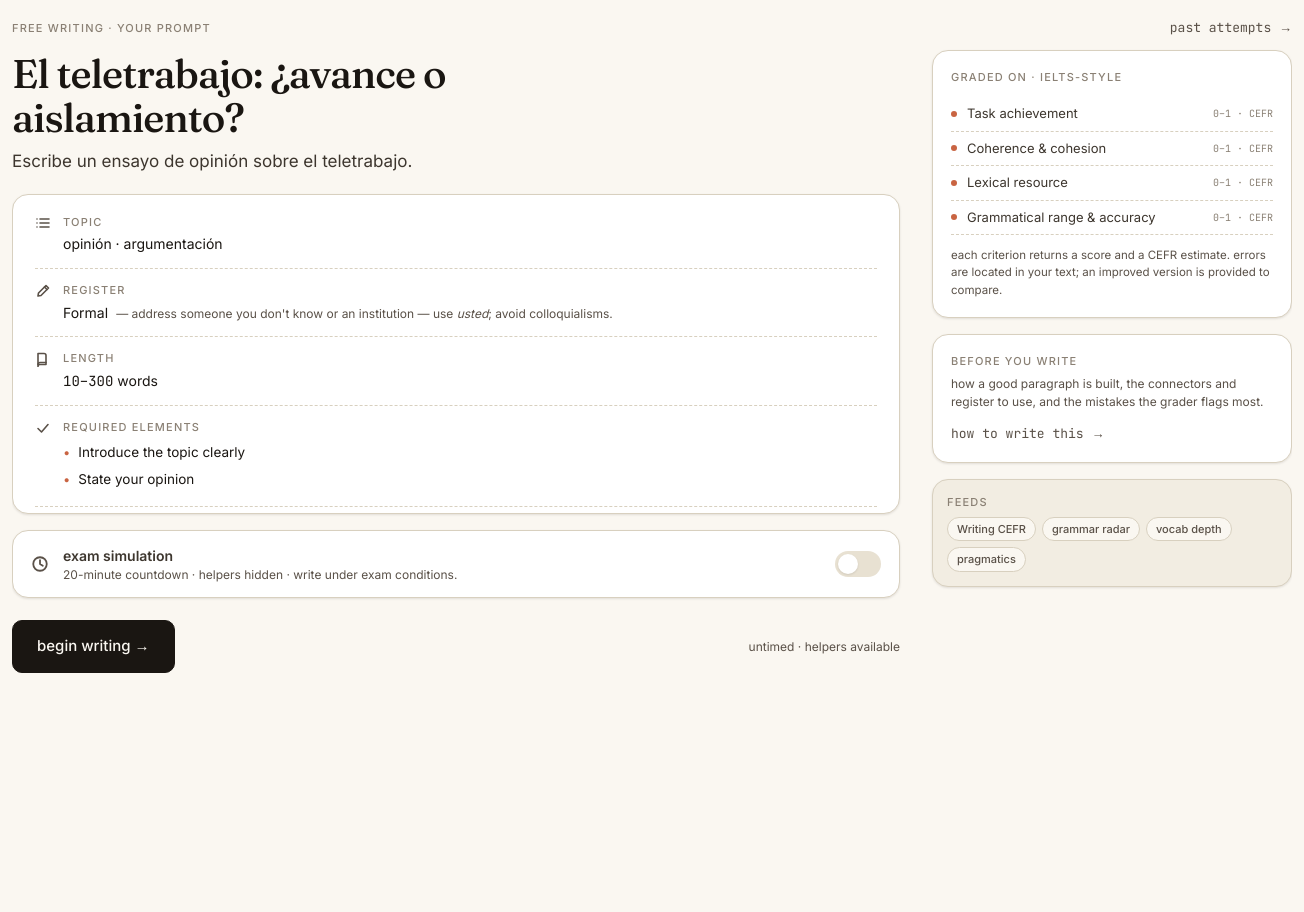
Scenario: FreeWritingPage › step 3: composer → results after grading › typing enough words and clicking grade → results headline shown after mutation resolves
// Go to composer
Click the button "begin writing →". click: (93, 646)
box: left=12, top=620, right=174, bottom=673
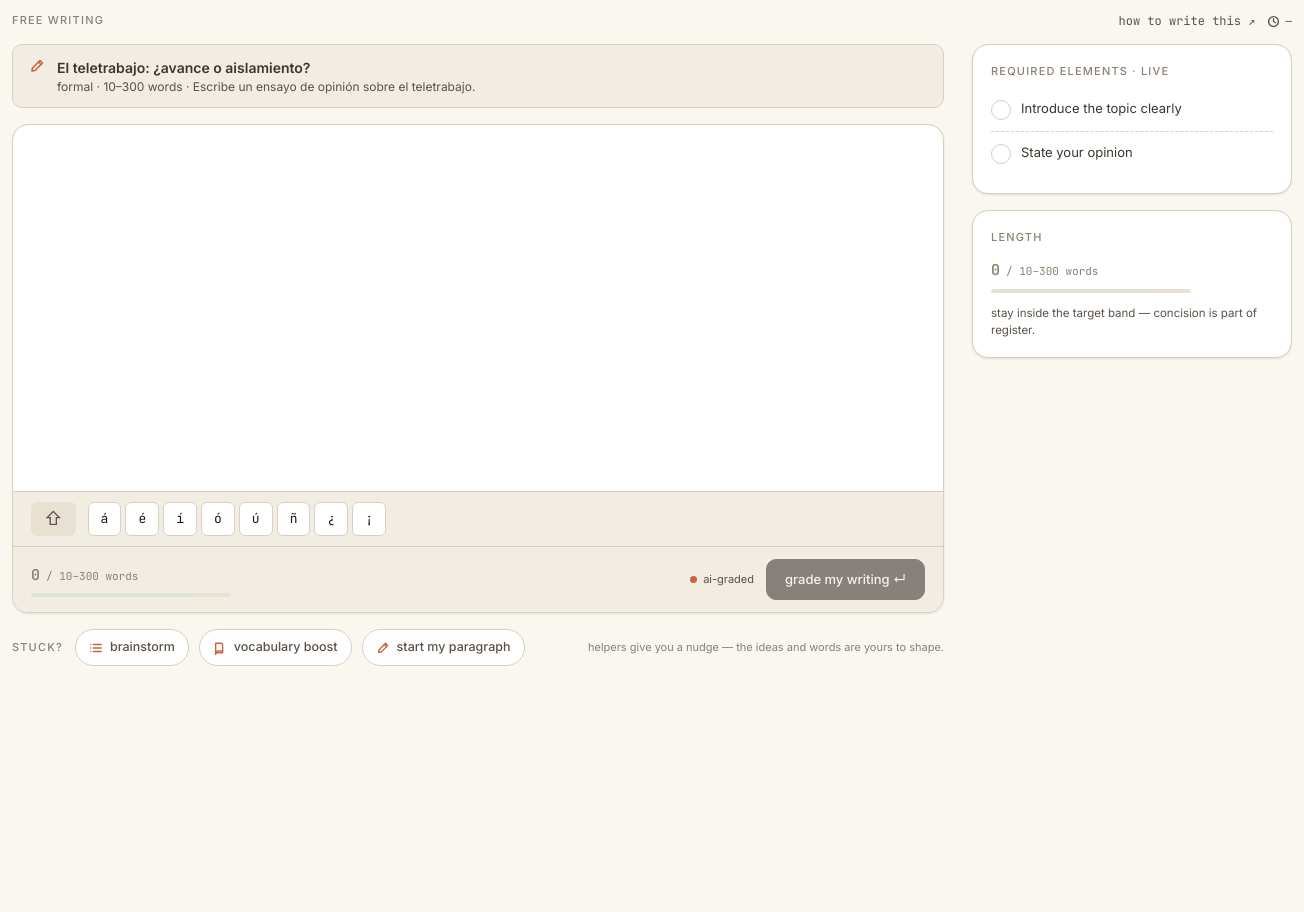
Type "El teletrabajo tiene ventajas claras para los trabajadores modernos que buscan flexibilidad laboral." into the text box. click: (478, 305)
box: left=13, top=125, right=943, bottom=485
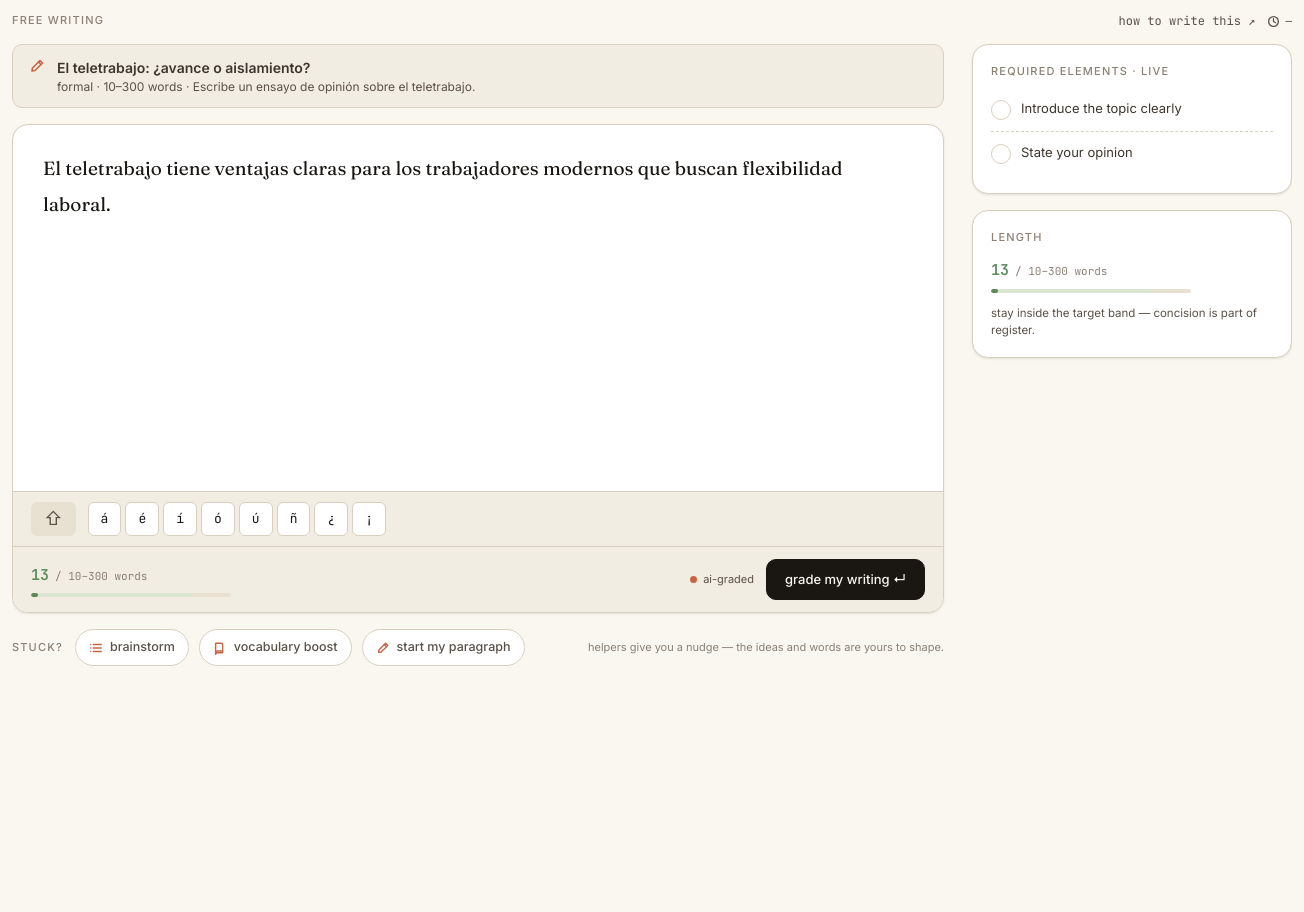
// Click grade
Click the button "grade my writing ↵". click: (846, 580)
box: left=766, top=559, right=925, bottom=600
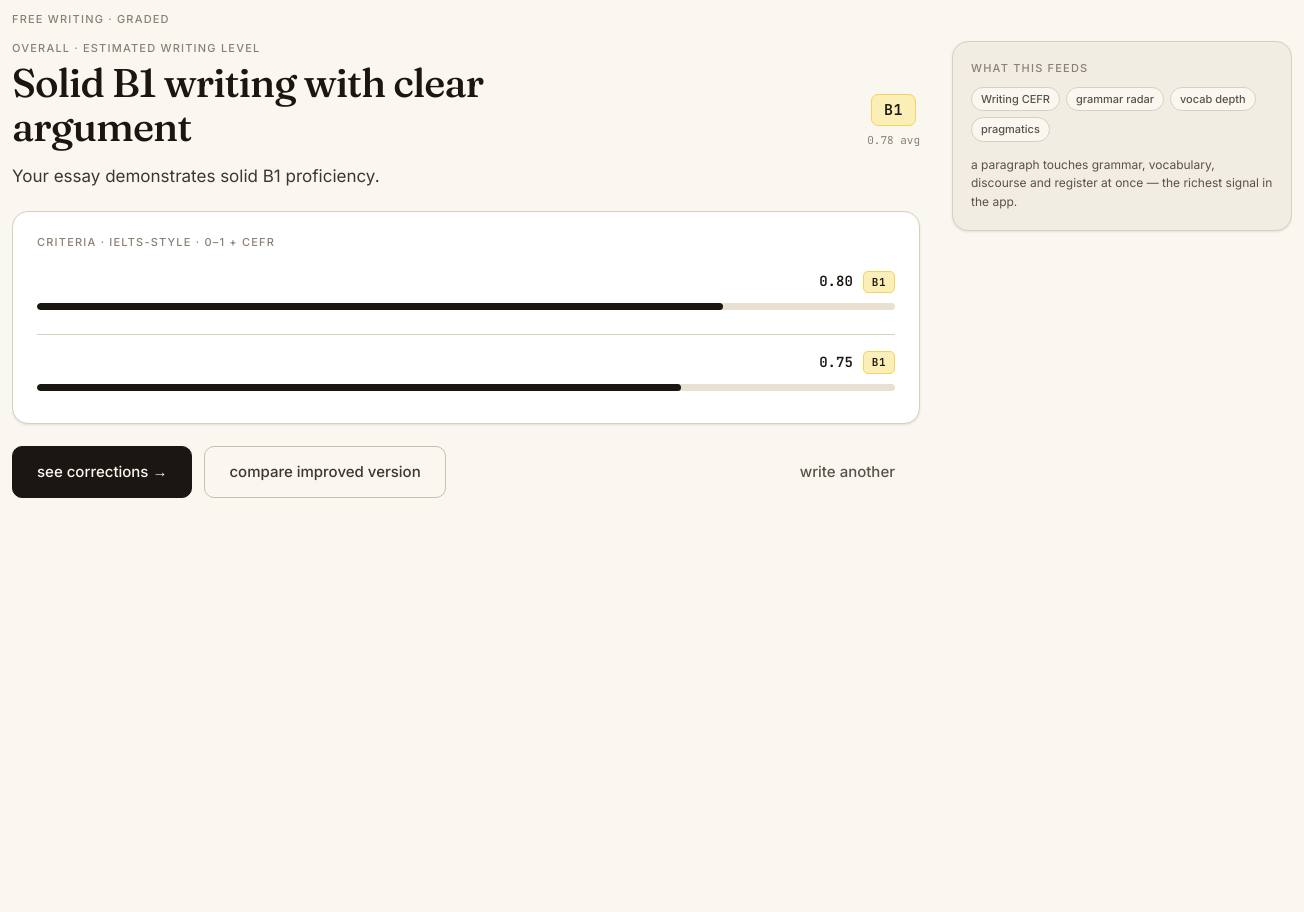
expect the heading "Solid B1 writing with clear argument" is shown: met, box left=12, top=58, right=483, bottom=151
